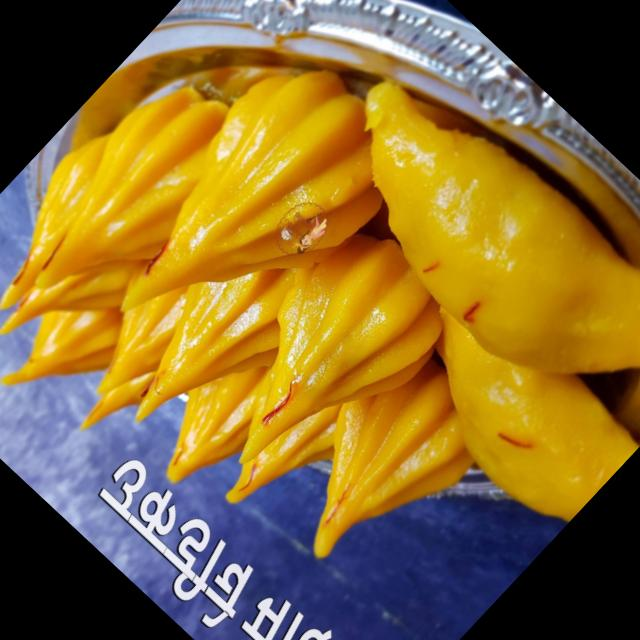modak: (2, 29, 561, 586)
